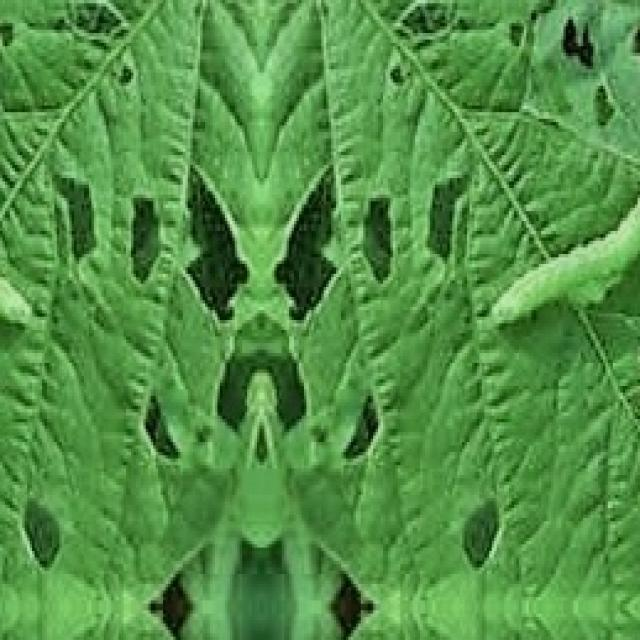armyworm: (488, 194, 640, 336)
